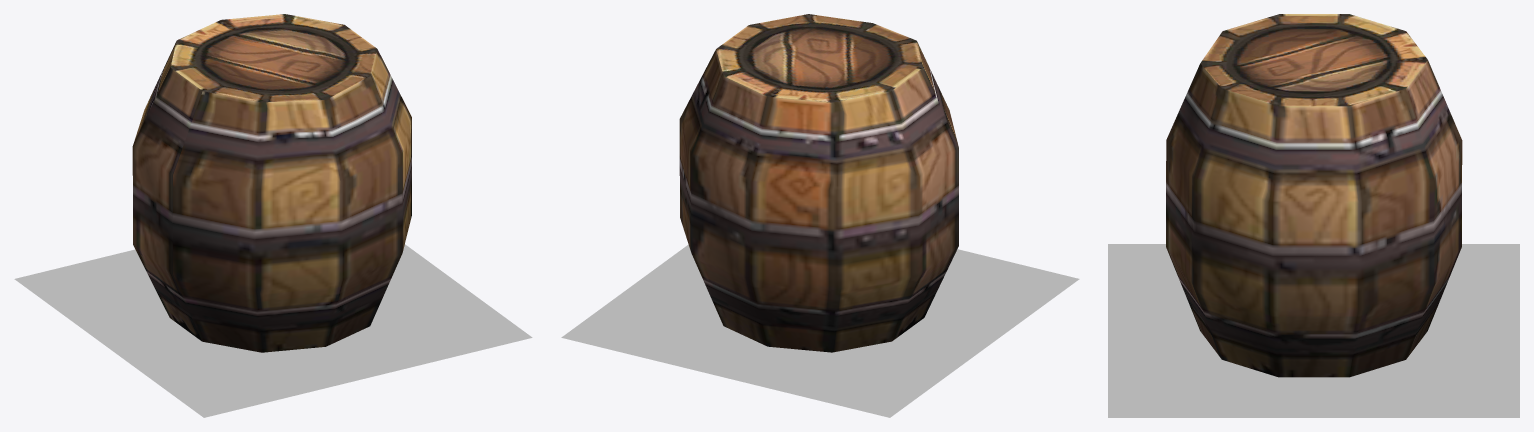
File: Gimmick_Taru001.fbx
3 renders of one model, left to right at view 1: azimuth 30°, elevation 25°; view 2: azimuth 150°, elevation 25°; view 3: azimuth 270°, elevation 25°, orthographic. The views are drawn at different scales.
Visible parts, largest first — view 1: Gimmick_HakaiTaru001, Gimmick_HakaiTaru001_shadow; view 2: Gimmick_HakaiTaru001, Gimmick_HakaiTaru001_shadow; view 3: Gimmick_HakaiTaru001, Gimmick_HakaiTaru001_shadow.
Part boxes in pixels (left/top/right/bottom): Gimmick_HakaiTaru001: left=132, top=14, right=411, bottom=352; Gimmick_HakaiTaru001_shadow: left=14, top=244, right=532, bottom=417; Gimmick_HakaiTaru001: left=679, top=14, right=958, bottom=352; Gimmick_HakaiTaru001_shadow: left=561, top=244, right=1079, bottom=417; Gimmick_HakaiTaru001: left=1166, top=14, right=1462, bottom=377; Gimmick_HakaiTaru001_shadow: left=1108, top=244, right=1519, bottom=417.
Bounding box in the file's own units: 1.11 × 0.8048 × 1.11.
